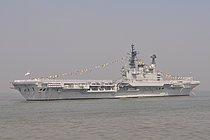MIL_Ship: (10, 44, 200, 97)
